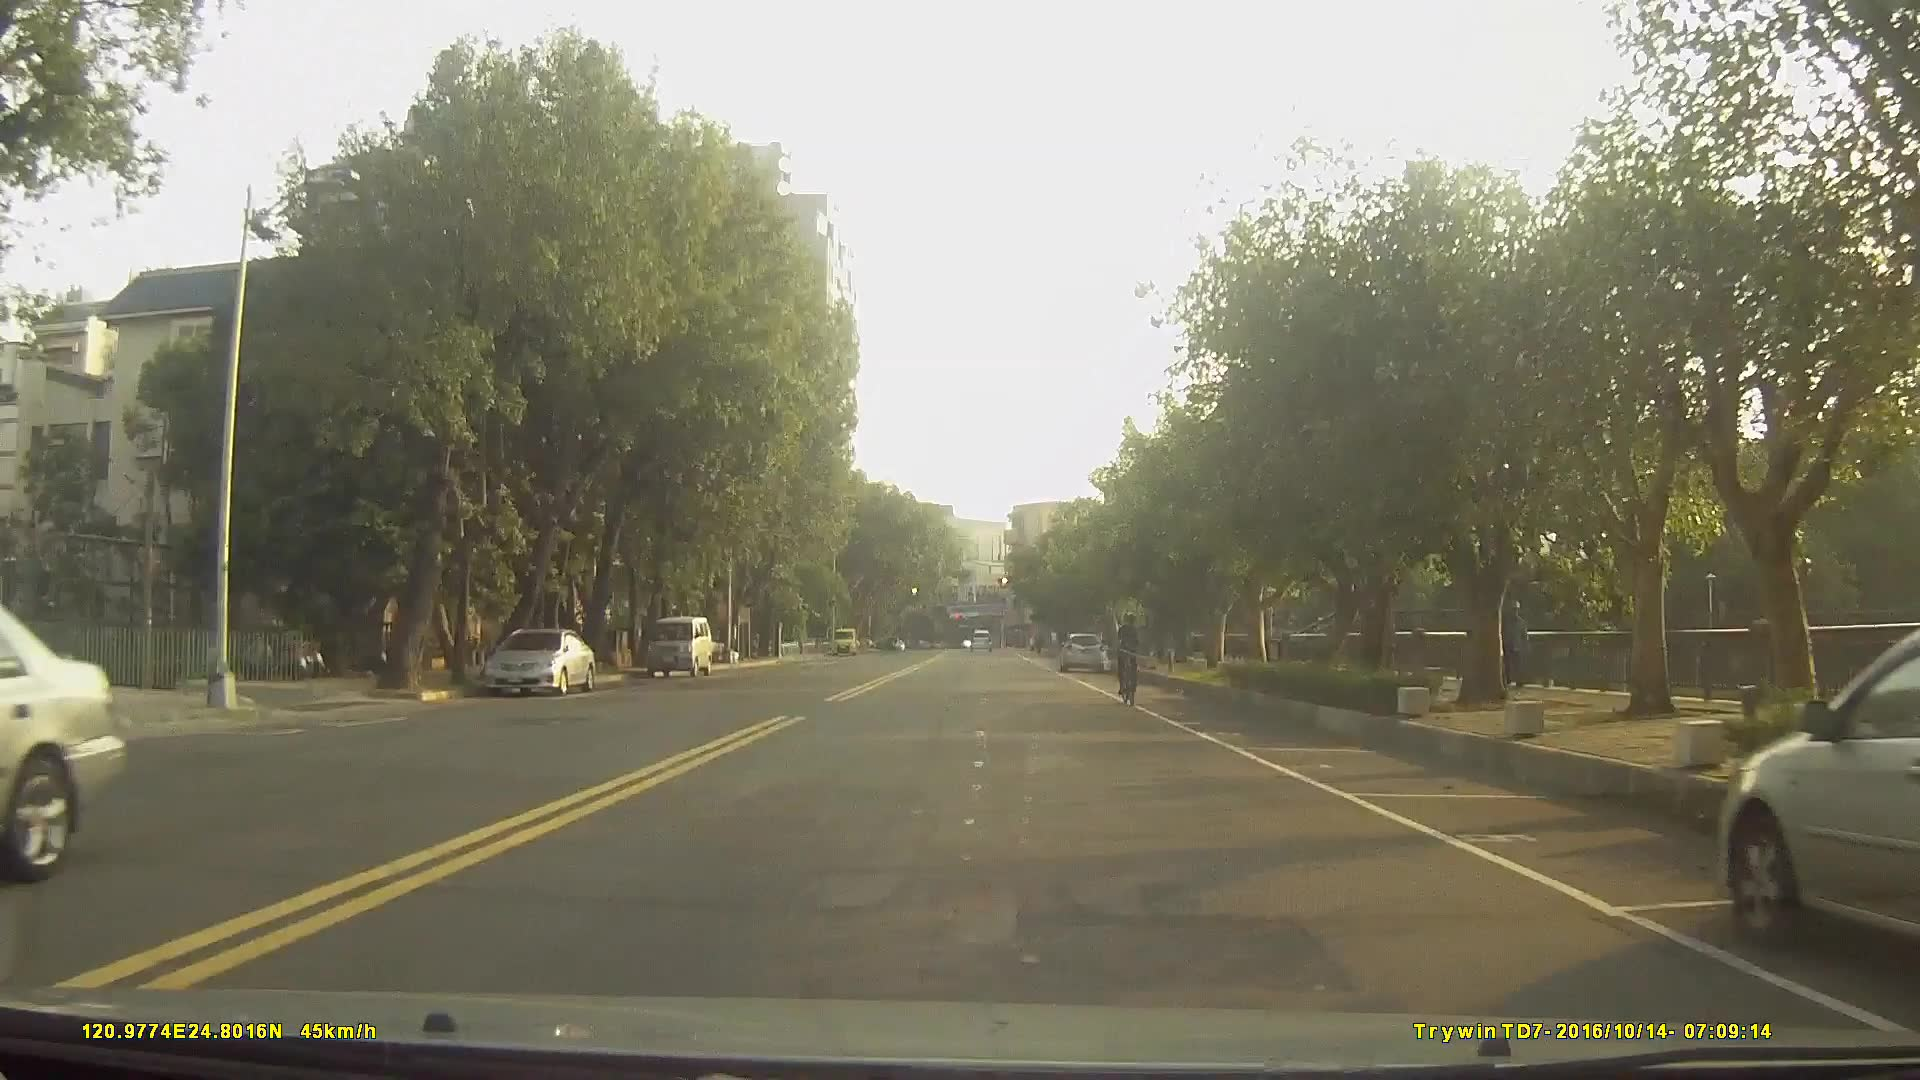rider: (1111, 613, 1144, 709)
vehicle: (1718, 628, 1920, 957), (0, 602, 129, 882), (481, 627, 595, 696), (643, 614, 713, 679), (1057, 629, 1106, 670), (967, 626, 992, 652)
